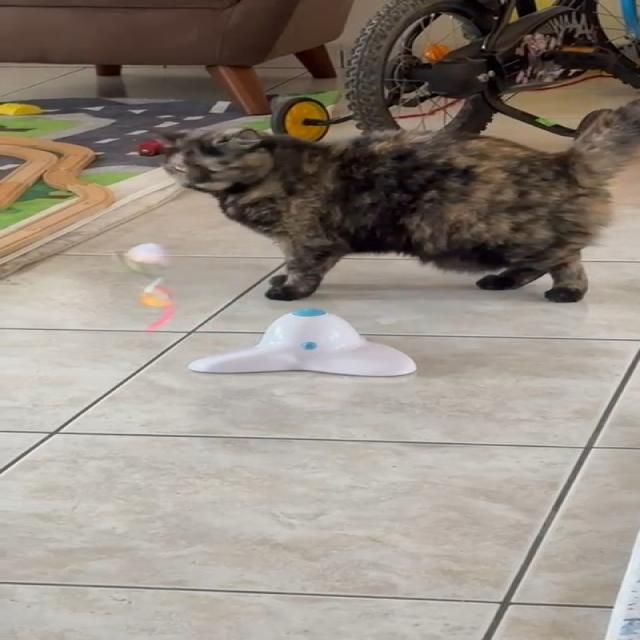authorized: (148, 98, 639, 304)
